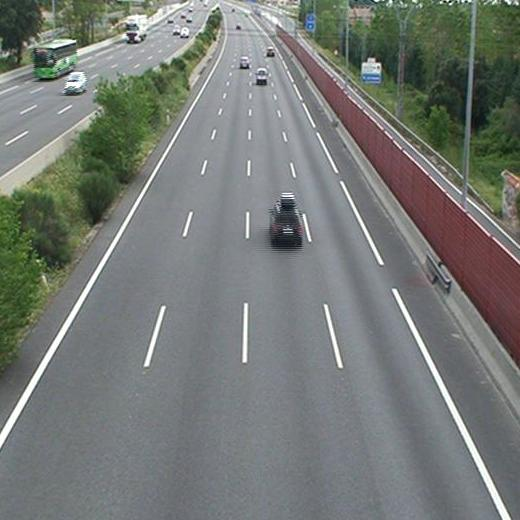car: (269, 208, 302, 240), (240, 57, 250, 68), (266, 48, 275, 56)
van: (256, 67, 268, 82)
